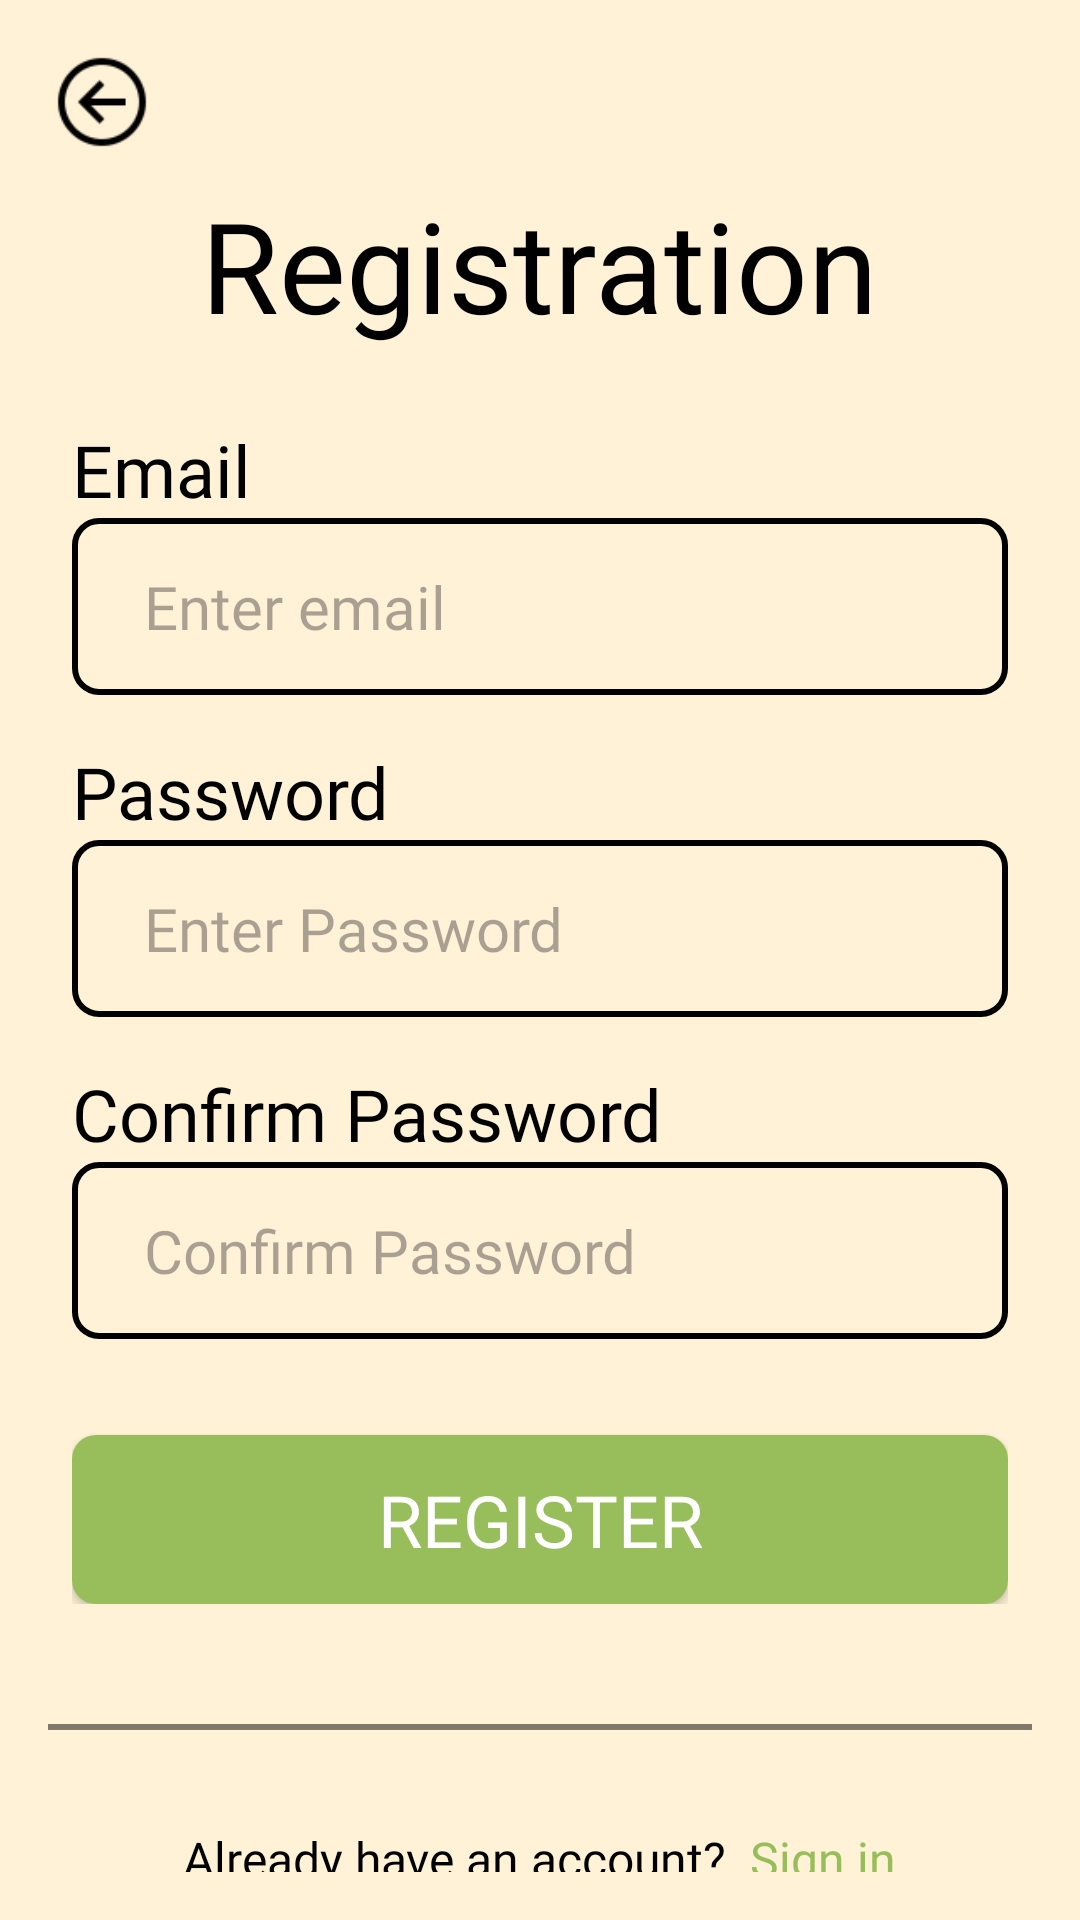

Locate icon controls on the screen. Image size 1080px x 1920px, boxes as (x1, y1, x2, y2).
back arrow: (57, 57, 147, 147)
